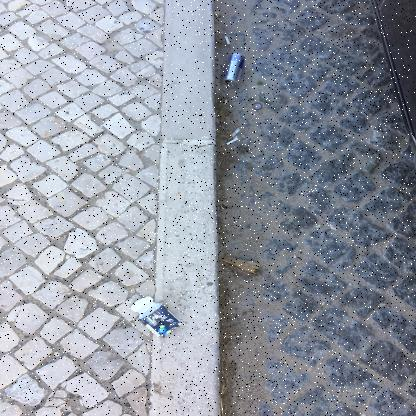Cigarette: (226, 138, 239, 146), (224, 36, 231, 45)
Drink can: (220, 54, 246, 89)
Metal bottle cap: (252, 102, 262, 109), (219, 203, 229, 210), (214, 12, 221, 18)
Other carton: (130, 296, 182, 338)
Pop tab: (227, 82, 233, 88)
